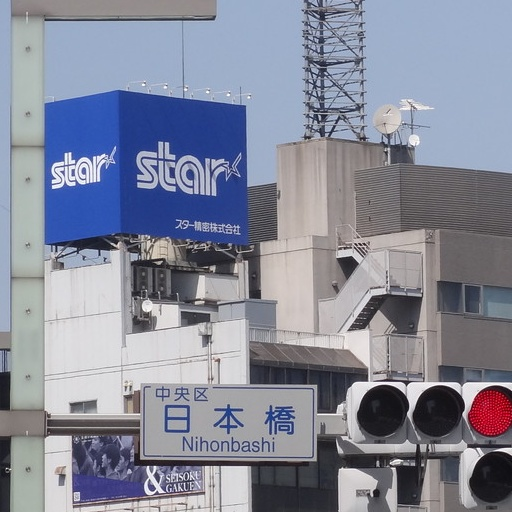Traffic_Signal_Red: (344, 370, 512, 446)
